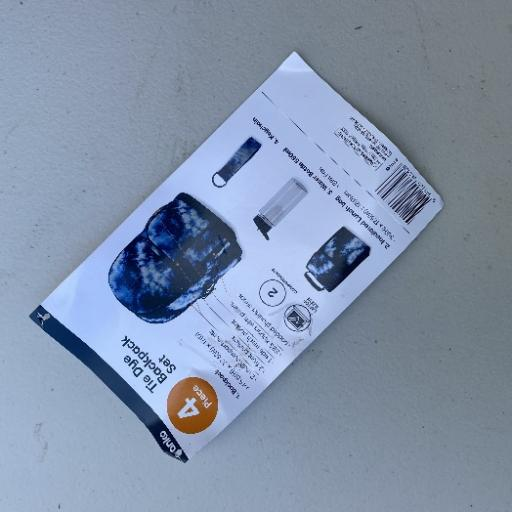Cardboard: (28, 50, 446, 463), (106, 190, 244, 326)
